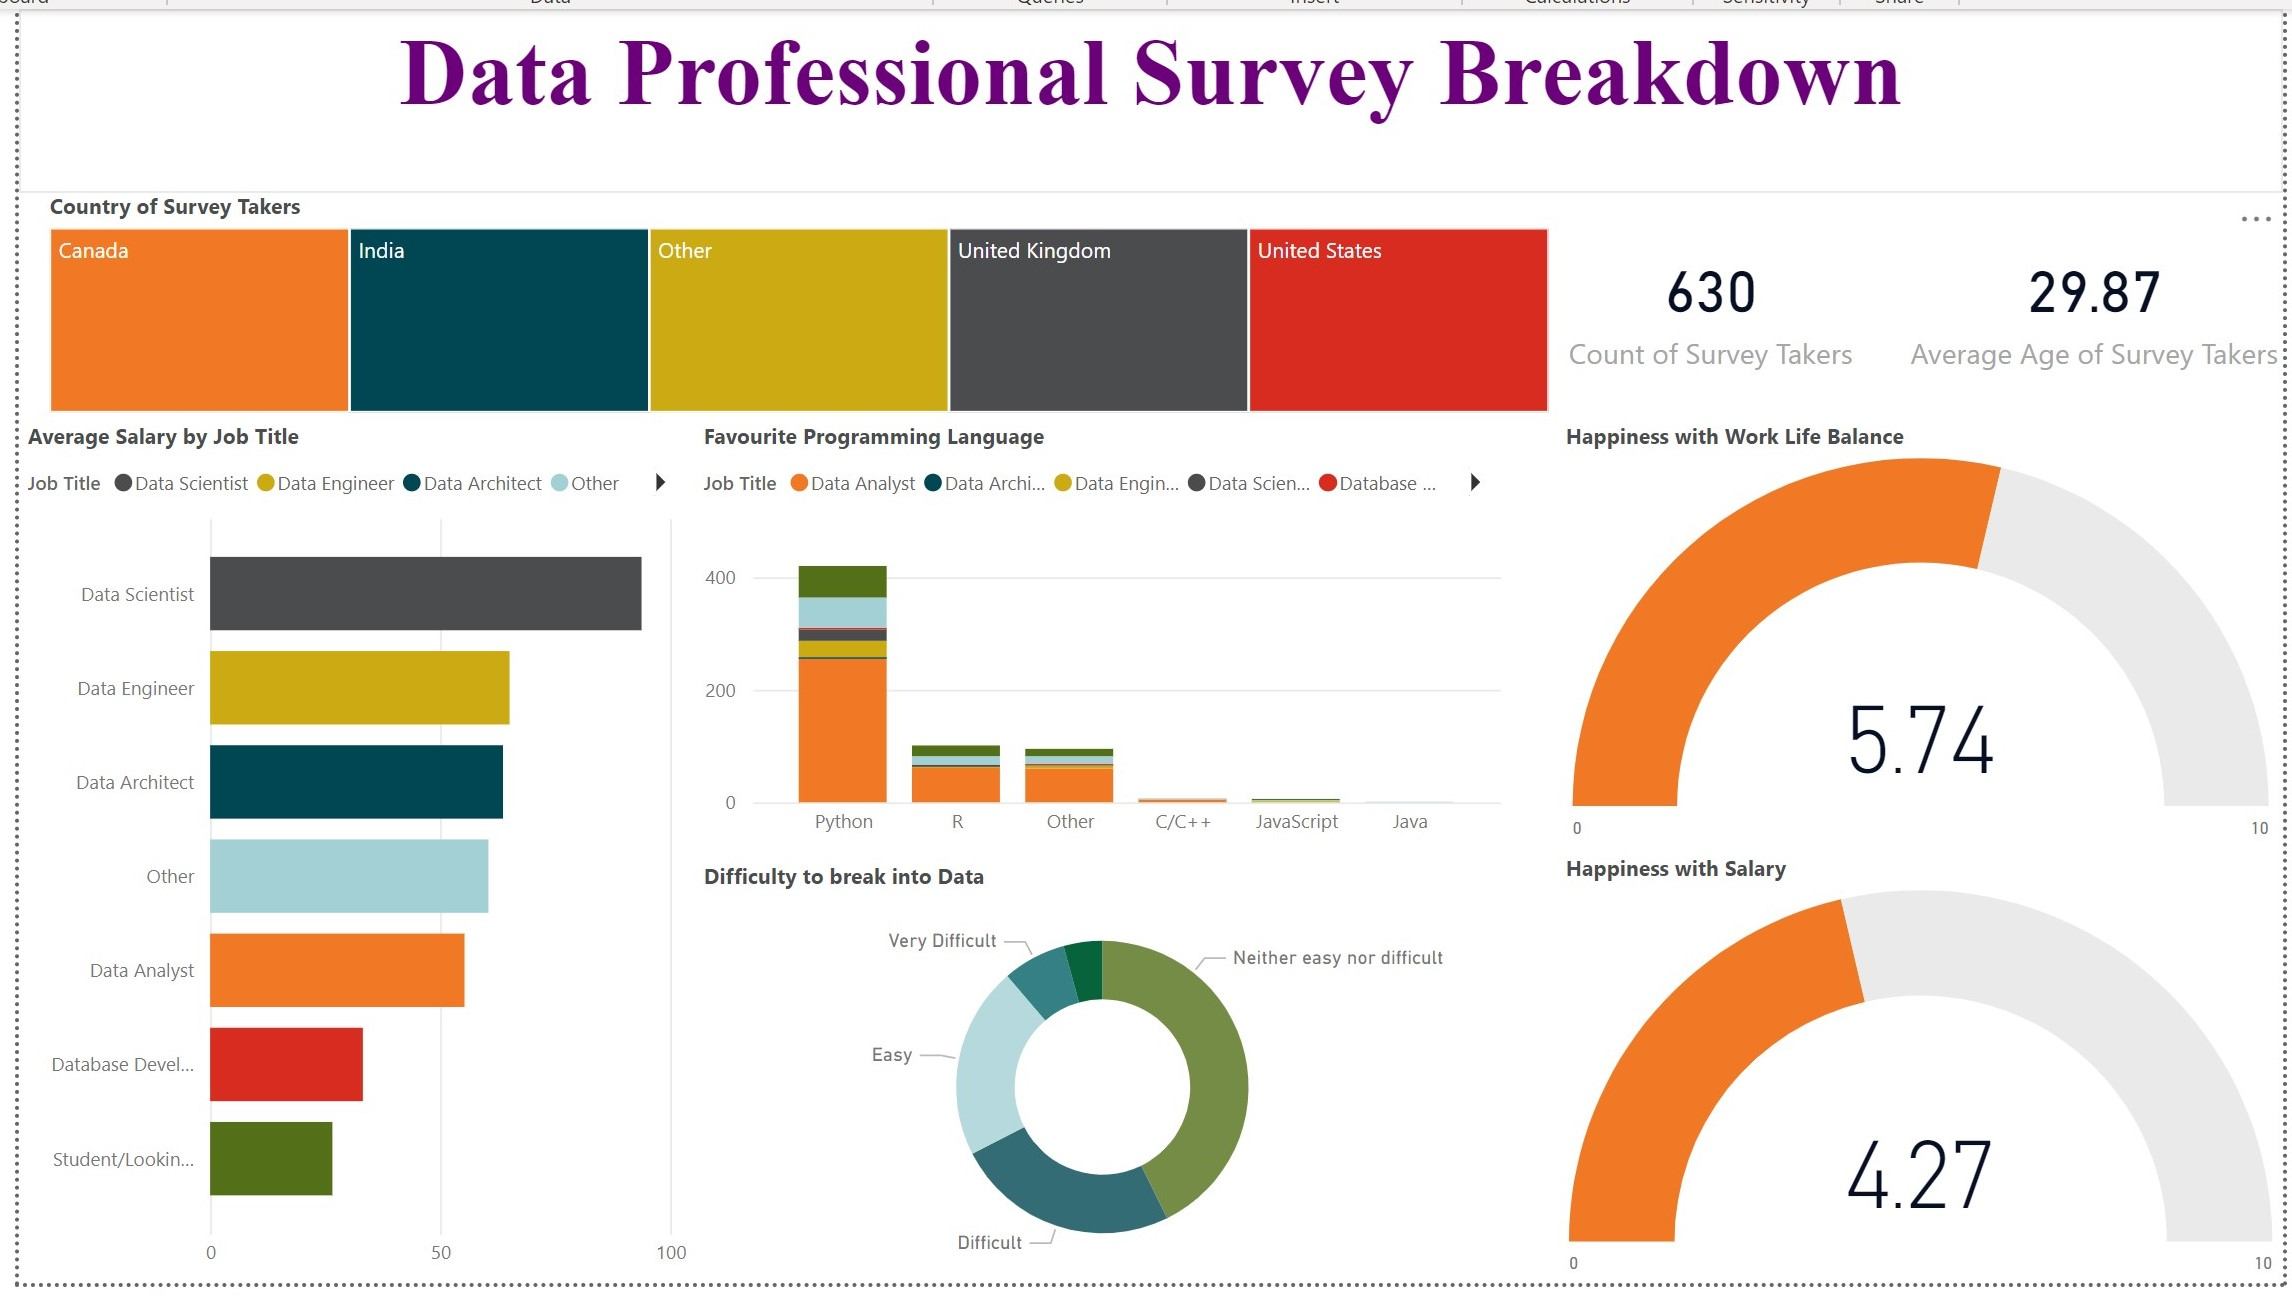

This screenshot's page, from the dashboard's own definition file:
{"tool":"powerbi","page":{"name":"Page 1","canvas":[1280,720],"ordinal":0},"visuals":[{"type":"textbox","box":[0,0,1280,103.7],"z":0},{"type":"card","fields":{"Values":["Count(Data Professional Survey.Unique ID)"]},"box":[848.5,103.2,214.7,130.1],"z":1},{"type":"card","fields":{"Values":["Avg(Data Professional Survey.Q10 - Current Age)"]},"box":[1061.2,103.2,223,130.1],"z":2},{"type":"columnChart","title":"Favourite Programming Language","fields":{"Category":["Data Professional Survey.Q5 - Favorite Programming Language.1"],"Y":["Count(Data Professional Survey.Unique ID)"],"Series":["Data Professional Survey.Q1 - Which Title Best Fits your Current Role?.1"]},"box":[381.9,233.3,460.4,243.6],"z":4},{"type":"treemap","title":"Country of Survey Takers","fields":{"Group":["Data Professional Survey.Q11 - Which Country do you live in?.1"],"Values":["Count(Data Professional Survey.Q11 - Which Country do you live in?.1)"]},"box":[12.4,103.2,856.8,130.1],"z":5},{"type":"gauge","title":"Happiness with Work Life Balance","fields":{"Y":["Avg(Data Professional Survey.Q6 - How Happy are you in your Current Position with the following? (Work/Life Balance))"],"MinValue":["Min(Data Professional Survey.Q6 - How Happy are you in your Current Position with the following? (Work/Life Balance))1"],"MaxValue":["Max(Data Professional Survey.Q6 - How Happy are you in your Current Position with the following? (Work/Life Balance))2"]},"box":[869.2,233.3,410.8,243.6],"z":6},{"type":"gauge","title":"Happiness with Salary","fields":{"Y":["Avg(Data Professional Survey.Q6 - How Happy are you in your Current Position with the following? (Salary))"],"MinValue":["Min(Data Professional Survey.Q6 - How Happy are you in your Current Position with the following? (Salary))"],"MaxValue":["Max(Data Professional Survey.Q6 - How Happy are you in your Current Position with the following? (Salary))"]},"box":[869.2,476.9,410.8,245.7],"z":7},{"type":"donutChart","title":"Difficulty to break into Data","fields":{"Category":["Data Professional Survey.Q7 - How difficult was it for you to break into Data?"],"Y":["CountNonNull(Data Professional Survey.Q7 - How difficult was it for you to break into Data?)"]},"box":[381.9,481,460.4,239.5],"z":8},{"type":"barChart","title":"Average Salary by Job Title","fields":{"Category":["Data Professional Survey.Q1 - Which Title Best Fits your Current Role?.1"],"Y":["Avg(Data Professional Survey.Average Salary)"],"Series":["Data Professional Survey.Q1 - Which Title Best Fits your Current Role?.1"]},"box":[0,233.3,381.9,487.2],"z":9}]}

Visuals, with their boxes on the page's 1280x720 design canvas (x1, y1, x2, y2). These are canvas units, not pixel positions in the 2292x1296 screenshot, which may show the page scaled, cropped or inside an application window:
textbox: Rect(0, 0, 1280, 104)
card - Count(Data Professional Survey.Unique ID): Rect(848, 103, 1063, 233)
card - Avg(Data Professional Survey.Q10 - Current Age): Rect(1061, 103, 1284, 233)
"Favourite Programming Language" columnChart: Rect(382, 233, 842, 477)
"Country of Survey Takers" treemap: Rect(12, 103, 869, 233)
"Happiness with Work Life Balance" gauge: Rect(869, 233, 1280, 477)
"Happiness with Salary" gauge: Rect(869, 477, 1280, 723)
"Difficulty to break into Data" donutChart: Rect(382, 481, 842, 720)
"Average Salary by Job Title" barChart: Rect(0, 233, 382, 720)
